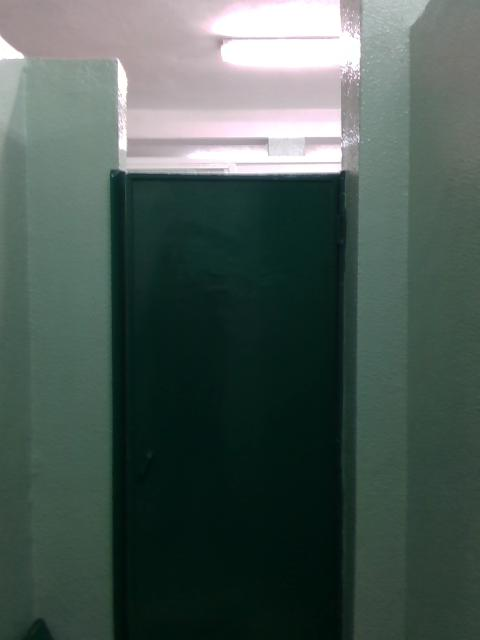door: (113, 173, 352, 633)
